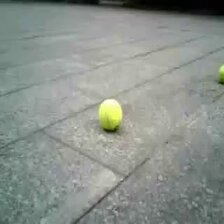tennis: (99, 98, 122, 131)
